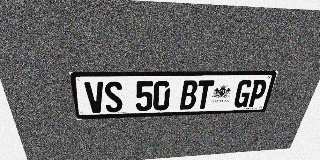0: (153, 81, 171, 111)
5: (136, 81, 153, 111)
B: (179, 80, 198, 110)
G: (233, 80, 254, 108)
P: (247, 79, 268, 107)
S: (103, 81, 123, 112)
T: (195, 80, 215, 109)
V: (84, 82, 106, 113)
